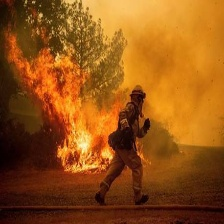fire: (5, 33, 126, 175)
smoke: (128, 7, 224, 129)
